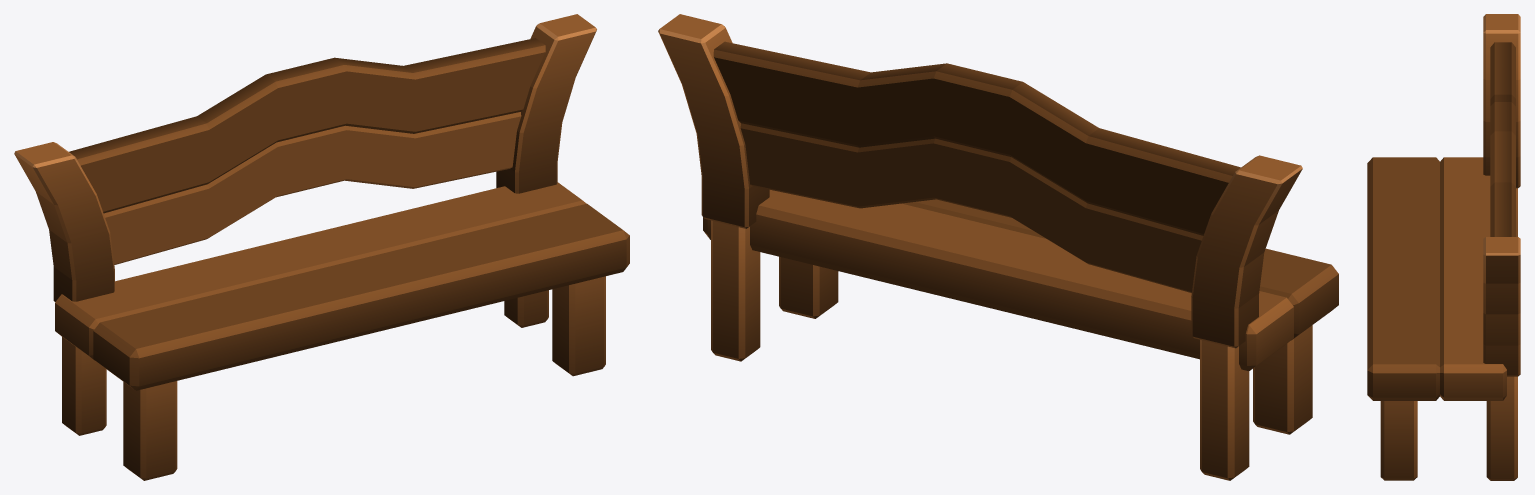
File: Bank-1.fbx
The picture shows the model from 3 angles, left to right: view 1: azimuth 30°, elevation 25°; view 2: azimuth 150°, elevation 25°; view 3: azimuth 270°, elevation 25°; orthographic projection. The views are drawn at different scales.
Visible parts, largest first — view 1: Bank-1; view 2: Bank-1; view 3: Bank-1.
Part boxes in pixels (left/top/right/bottom): Bank-1: left=14, top=14, right=629, bottom=480; Bank-1: left=658, top=14, right=1338, bottom=480; Bank-1: left=1367, top=14, right=1520, bottom=480.
Size of the model in its own units: 388 by 200 by 105.
